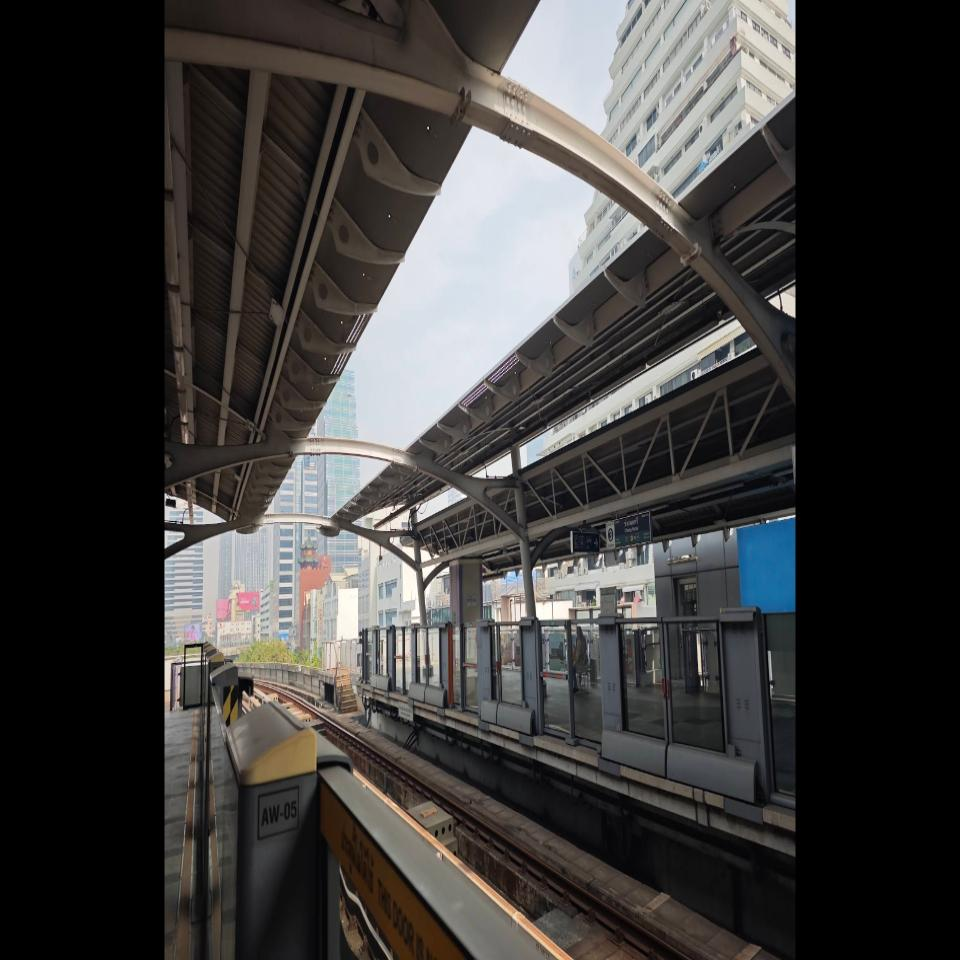signage: (624, 513, 640, 547)
